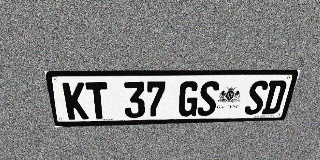3: (124, 82, 145, 118)
7: (145, 81, 166, 118)
D: (261, 80, 288, 114)
G: (178, 81, 200, 117)
K: (62, 82, 89, 120)
S: (243, 80, 269, 115), (197, 81, 220, 116)
T: (85, 82, 109, 119)
